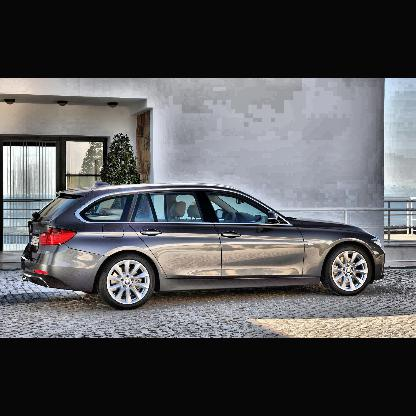BMW 3 Series Wagon 2012: (22, 183, 386, 311)
